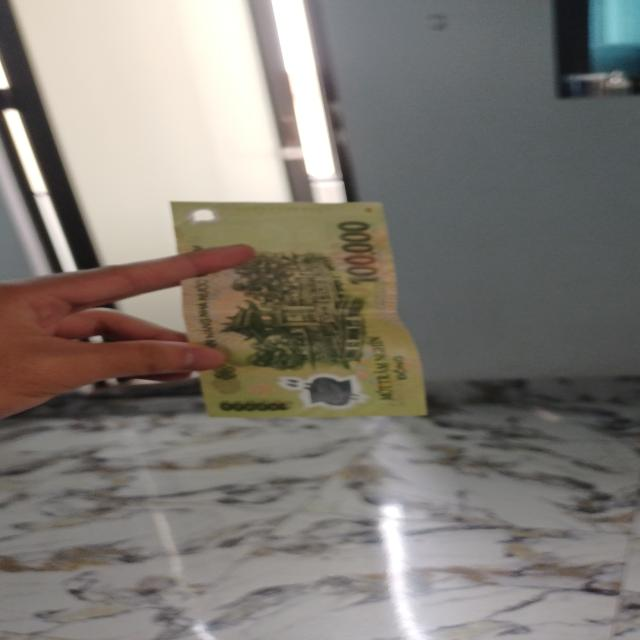100 000 VND: (167, 197, 441, 424)
